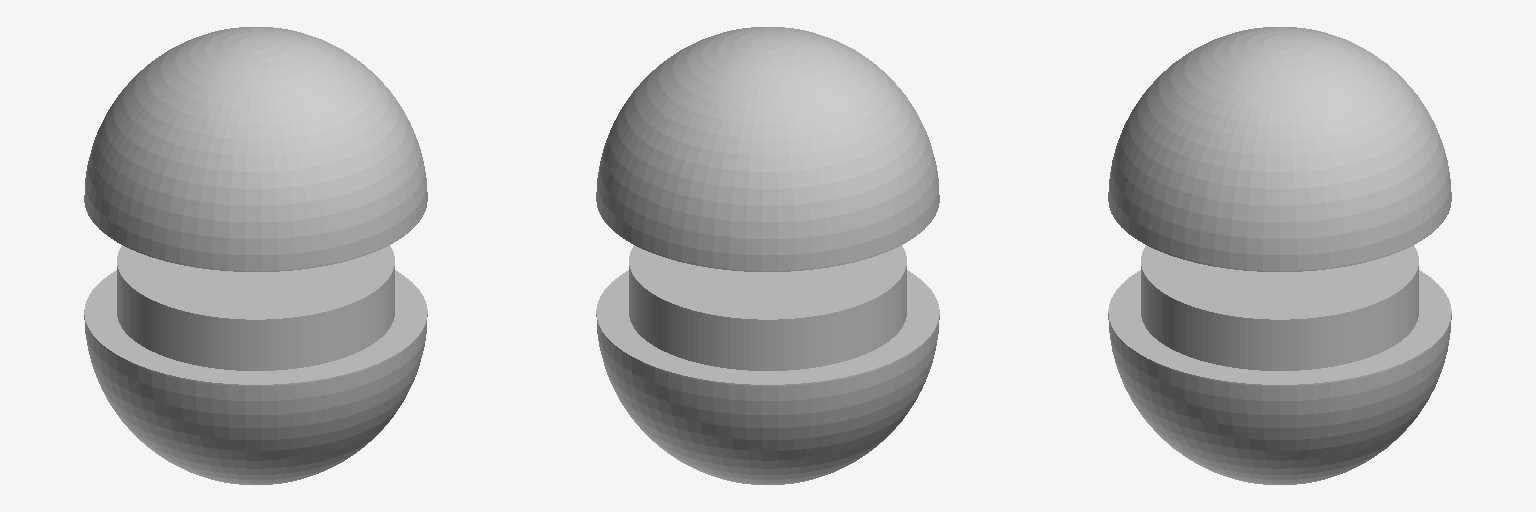
The model's file is droid_anim_000030.obj.
3 views of the same model, side by side, from view 1: azimuth 30°, elevation 25°; view 2: azimuth 150°, elevation 25°; view 3: azimuth 270°, elevation 25° (orthographic).
Visible parts, largest first — view 1: Sphere.004, Sphere.005, Cylinder.002; view 2: Sphere.004, Sphere.005, Cylinder.002; view 3: Sphere.004, Sphere.005, Cylinder.002.
Boxes of the visible parts, x1=… form: Sphere.004: x1=84, y1=27, x2=427, y2=271; Sphere.005: x1=84, y1=270, x2=427, y2=484; Cylinder.002: x1=117, y1=245, x2=394, y2=370; Sphere.004: x1=596, y1=27, x2=939, y2=271; Sphere.005: x1=596, y1=270, x2=939, y2=484; Cylinder.002: x1=629, y1=245, x2=906, y2=370; Sphere.004: x1=1108, y1=27, x2=1451, y2=271; Sphere.005: x1=1108, y1=270, x2=1451, y2=484; Cylinder.002: x1=1141, y1=245, x2=1418, y2=370.
Bounding box in the file's own units: 2 × 2.74 × 2.